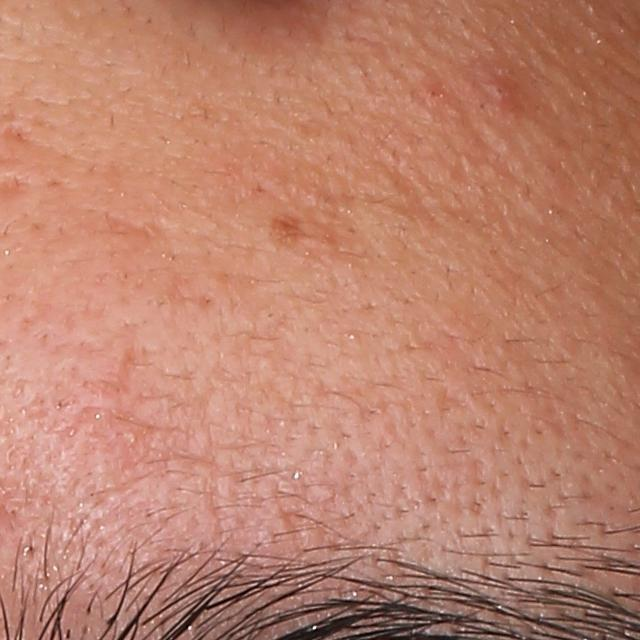atrophic_scar: (366, 175, 442, 228), (83, 346, 142, 405), (119, 412, 179, 468), (106, 212, 179, 256), (14, 290, 59, 340), (432, 384, 476, 430)
nevus: (268, 212, 307, 251)
papule: (453, 57, 525, 115)
